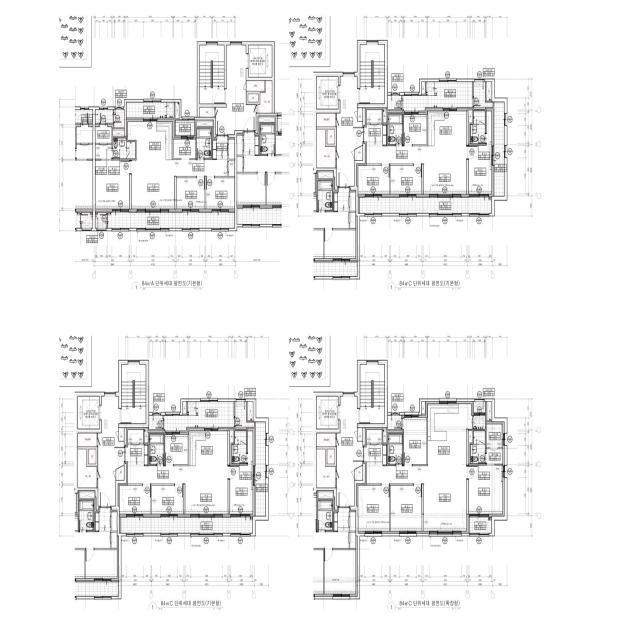space_balconi: (402, 82, 472, 111), (164, 402, 234, 431), (108, 212, 234, 228), (121, 518, 253, 533), (360, 198, 491, 213), (494, 102, 504, 196), (256, 422, 265, 516), (126, 102, 174, 118), (470, 518, 491, 533), (175, 120, 194, 136), (95, 110, 113, 123)
space_bedroom: (230, 431, 253, 514), (469, 111, 491, 194), (468, 465, 502, 514), (95, 160, 129, 209), (358, 485, 390, 531), (391, 486, 422, 531), (404, 418, 427, 464), (176, 178, 205, 209), (119, 486, 151, 514), (206, 178, 234, 209), (358, 166, 389, 194), (391, 166, 422, 194), (152, 486, 183, 514), (404, 115, 427, 145), (165, 435, 188, 464)
space_dressroom: (487, 424, 503, 464), (95, 125, 112, 159)
space_elevator: (249, 45, 272, 77), (316, 77, 338, 109), (78, 396, 99, 429), (317, 397, 338, 429)
space_elevator_hall: (216, 45, 256, 134), (98, 396, 124, 506), (337, 76, 363, 186), (337, 397, 363, 506)
space_front: (364, 444, 387, 466), (213, 136, 234, 159), (364, 125, 387, 146), (125, 445, 148, 466)
space_kitchen: (428, 404, 473, 465), (128, 122, 171, 160), (189, 431, 228, 466), (428, 111, 466, 146)
space_living_room: (367, 466, 467, 531), (131, 160, 234, 209), (128, 466, 228, 514), (367, 146, 467, 194)
space_other: (78, 449, 97, 488), (317, 449, 335, 488), (317, 130, 335, 168), (258, 81, 272, 113), (174, 139, 196, 158), (78, 434, 97, 447), (317, 114, 335, 127), (317, 433, 335, 446), (149, 415, 163, 429), (367, 110, 382, 123), (128, 430, 143, 443), (367, 430, 382, 443), (246, 81, 265, 91), (388, 415, 401, 429), (114, 110, 124, 128), (388, 96, 401, 109), (474, 416, 485, 429), (468, 431, 472, 464), (468, 111, 472, 144), (230, 431, 234, 464), (200, 108, 214, 117), (88, 449, 96, 464), (327, 449, 335, 464), (486, 82, 492, 101), (355, 466, 363, 480), (116, 466, 124, 480), (355, 146, 363, 160), (327, 129, 334, 144), (248, 402, 253, 420), (248, 94, 258, 102), (488, 402, 492, 420), (175, 102, 179, 119), (358, 108, 363, 121), (119, 428, 124, 441), (358, 428, 363, 441), (197, 122, 213, 126), (383, 109, 387, 123), (144, 429, 148, 443), (383, 429, 387, 443), (113, 131, 124, 136), (422, 402, 425, 414), (183, 402, 186, 414), (422, 82, 425, 94)
space_outdoor_room: (474, 82, 493, 107), (235, 402, 254, 427), (95, 213, 107, 228), (474, 402, 485, 413)
space_staircase: (360, 45, 385, 104), (121, 365, 146, 424), (200, 45, 224, 104), (360, 365, 384, 423)
space_toilet: (232, 431, 246, 464), (471, 111, 485, 144), (113, 138, 135, 159), (471, 431, 485, 464), (197, 128, 212, 158), (388, 114, 402, 144), (150, 434, 164, 464), (388, 434, 402, 464)
